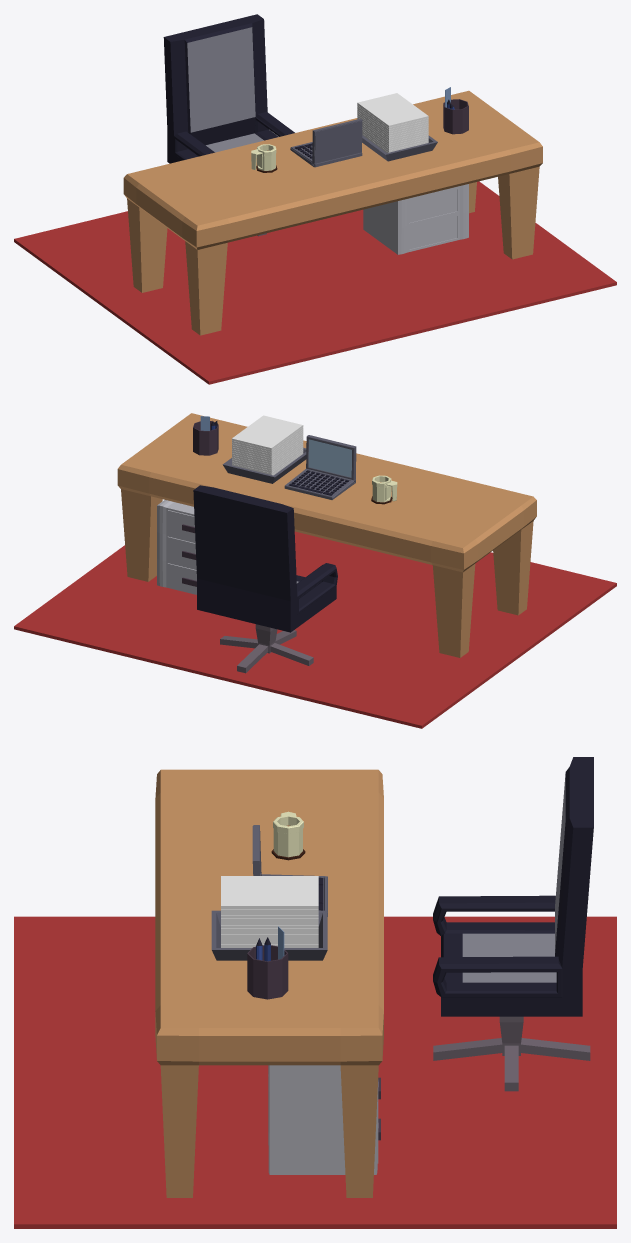
The model's file is uploads_files_4009962_working+desk+for+free.fbx.
The picture shows the model from 3 angles, top to bottom: view 1: azimuth 30°, elevation 25°; view 2: azimuth 150°, elevation 25°; view 3: azimuth 270°, elevation 25°; orthographic projection. The views are drawn at different scales.
Visible parts, largest first — view 1: Cube.027, Cube.021, Cube.023, Cube.022, Cube.020, Cube.018, Cube, Cube.002, Cube.019; view 2: Cube.027, Cube.021, Cube.023, Cube.022, Cube.020, Cube.018, Cube.002, Cube, Cube.019; view 3: Cube.027, Cube.021, Cube.023, Cube.022, Cube.018, Cube, Cube.002, Cube.019, Cube.020.
Part boxes in pixels (x1=…): Cube.027: x1=14, y1=181, x2=616, y2=384; Cube.021: x1=123, y1=90, x2=542, y2=335; Cube.023: x1=163, y1=14, x2=294, y2=236; Cube.022: x1=363, y1=184, x2=468, y2=254; Cube.020: x1=290, y1=118, x2=362, y2=167; Cube.018: x1=357, y1=93, x2=428, y2=127; Cube: x1=443, y1=99, x2=468, y2=134; Cube.002: x1=362, y1=135, x2=437, y2=161; Cube.019: x1=251, y1=144, x2=276, y2=170; Cube.027: x1=14, y1=531, x2=616, y2=728; Cube.021: x1=117, y1=413, x2=536, y2=657; Cube.023: x1=193, y1=485, x2=337, y2=673; Cube.022: x1=157, y1=500, x2=196, y2=594; Cube.020: x1=284, y1=435, x2=356, y2=499; Cube.018: x1=232, y1=415, x2=303, y2=449; Cube.002: x1=222, y1=447, x2=306, y2=483; Cube: x1=193, y1=421, x2=218, y2=455; Cube.019: x1=372, y1=475, x2=397, y2=502; Cube.027: x1=14, y1=916, x2=616, y2=1228; Cube.021: x1=155, y1=769, x2=383, y2=1197; Cube.023: x1=433, y1=757, x2=593, y2=1091; Cube.022: x1=268, y1=1065, x2=380, y2=1174; Cube.018: x1=221, y1=876, x2=318, y2=908; Cube: x1=247, y1=945, x2=288, y2=999; Cube.002: x1=211, y1=910, x2=327, y2=960; Cube.019: x1=273, y1=811, x2=303, y2=857; Cube.020: x1=252, y1=825, x2=327, y2=916.
Size of the model in its own units: 375 by 154 by 311.
